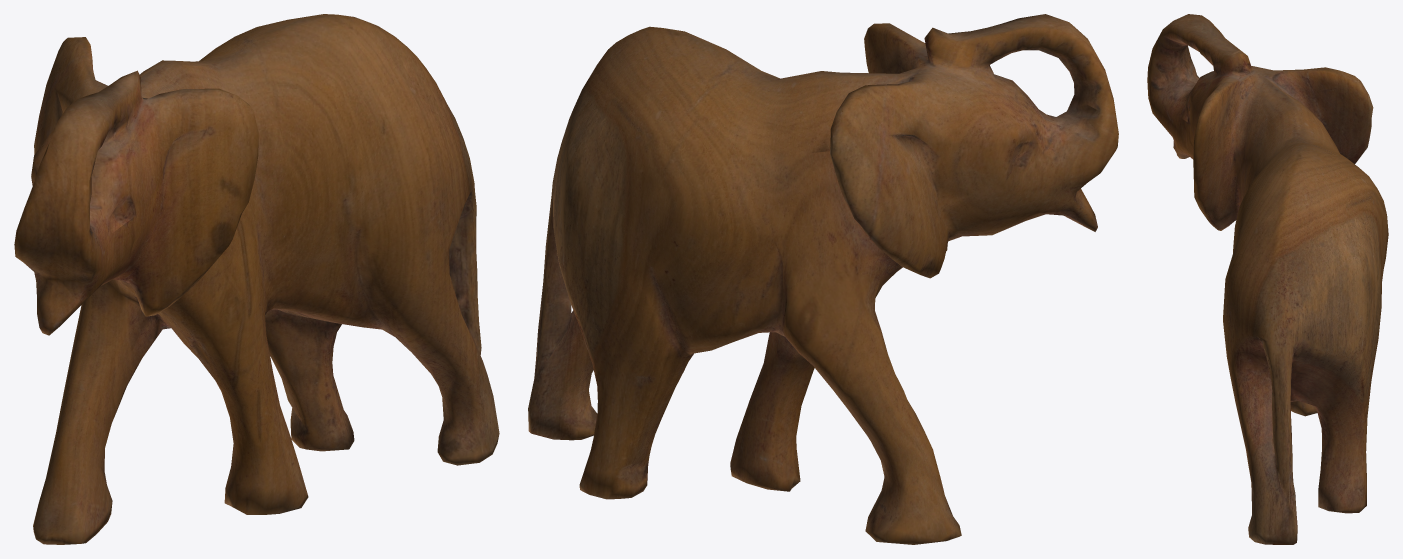
File: Elephant.glb
The picture shows the model from 3 angles, left to right: view 1: azimuth 30°, elevation 25°; view 2: azimuth 150°, elevation 25°; view 3: azimuth 270°, elevation 25°; orthographic projection. The views are drawn at different scales.
Visible parts, largest first — view 1: carved_wooden_elephant; view 2: carved_wooden_elephant; view 3: carved_wooden_elephant.
Part boxes in pixels (<box>): carved_wooden_elephant: <box>14,14,499,544</box>; carved_wooden_elephant: <box>528,14,1118,544</box>; carved_wooden_elephant: <box>1147,14,1388,544</box>.
Bounding box in the file's own units: 2.18 × 1.92 × 1.15.
Materials: 1 (1 with a texture image).
